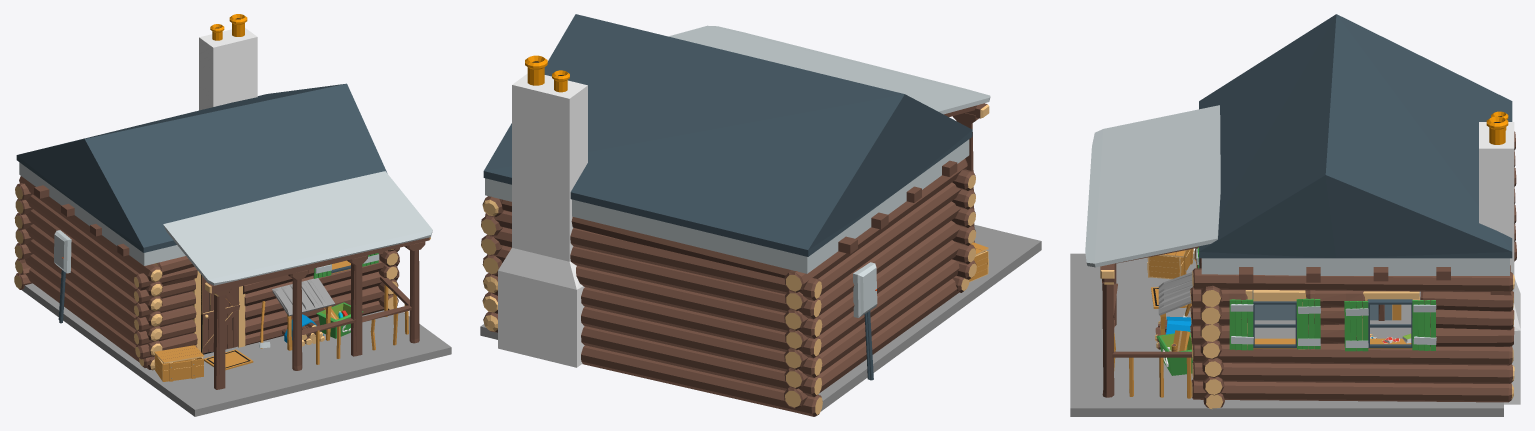
Rendered from cabin_2.fbx.
3 renders of one model, left to right at view 1: azimuth 30°, elevation 25°; view 2: azimuth 150°, elevation 25°; view 3: azimuth 270°, elevation 25°, orthographic. The views are drawn at different scales.
Visible parts, largest first — view 1: group155880449, group1249612197, group1586743875, group1250466418, group14942143, group385332886, group690343594, group2096568958, group1317001952, group1843786430, group286457790, group1796488872 (+24 smaller); view 2: group385332886, group1317001952, group14942143, group1250466418, group690343594, group1249612197, group1586743875, group155880449, group386898959, group2145860086, group1418661774; view 3: group385332886, group155880449, group1586743875, group1249612197, group832684256, group1700492783, group1856994920, group690343594, group730840630, group14942143, group1008650552, group2048264474 (+20 smaller).
Part boxes in pixels (x1,y1,x2,y2): group155880449: (84,83,387,252); group1249612197: (163,171,432,285); group1586743875: (22,283,451,416); group1250466418: (19,176,162,370); group14942143: (199,28,257,110); group385332886: (16,84,344,211); group690343594: (19,162,185,265); group2096568958: (201,275,239,354); group1317001952: (14,183,32,289); group1843786430: (205,237,430,293); group286457790: (272,278,335,316); group1796488872: (245,286,384,335); group385332886: (483,14,904,256); group1317001952: (570,228,822,416); group14942143: (498,73,587,367); group1250466418: (784,158,967,408); group690343594: (485,139,969,273); group1249612197: (668,25,990,116); group1586743875: (480,224,1041,416); group155880449: (900,94,972,188); group386898959: (501,199,791,278); group2145860086: (853,262,877,380); group1418661774: (525,55,547,85); group385332886: (1325,14,1512,258); group155880449: (1199,14,1336,258); group1586743875: (1070,253,1503,416); group1249612197: (1085,105,1220,267); group832684256: (1192,362,1514,383); group1700492783: (1191,379,1513,402); group1856994920: (1192,343,1513,365); group690343594: (1201,258,1509,275); group730840630: (1192,268,1514,291); group14942143: (1479,122,1520,404); group1008650552: (1229,298,1320,350); group2048264474: (1420,291,1513,311).
Size of the model in its own units: 160 by 126 by 187.
